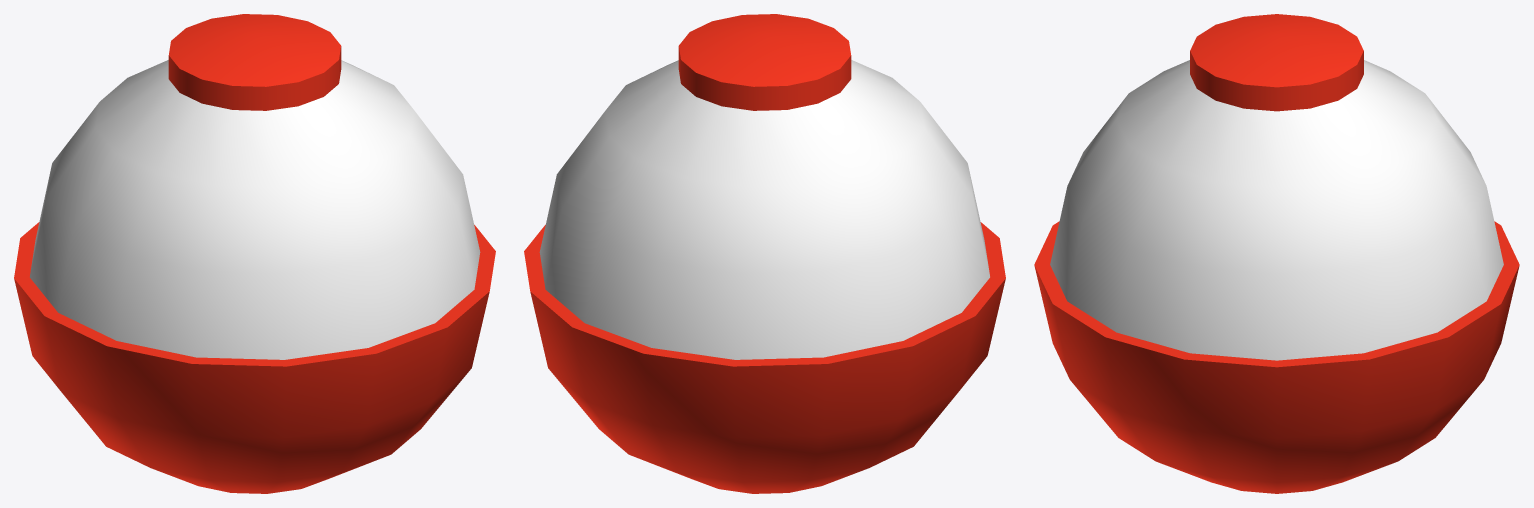
The model's file is bob.fbx.
3 renders of one model, left to right at view 1: azimuth 30°, elevation 25°; view 2: azimuth 150°, elevation 25°; view 3: azimuth 270°, elevation 25°, orthographic.
Visible parts, largest first — view 1: Sphere; view 2: Sphere; view 3: Sphere.
Part boxes in pixels (x1,y1,x2,y2): Sphere: (14,14,495,493); Sphere: (524,14,1005,493); Sphere: (1034,14,1519,493).
Bounding box in the file's own units: 214 × 212 × 214.
